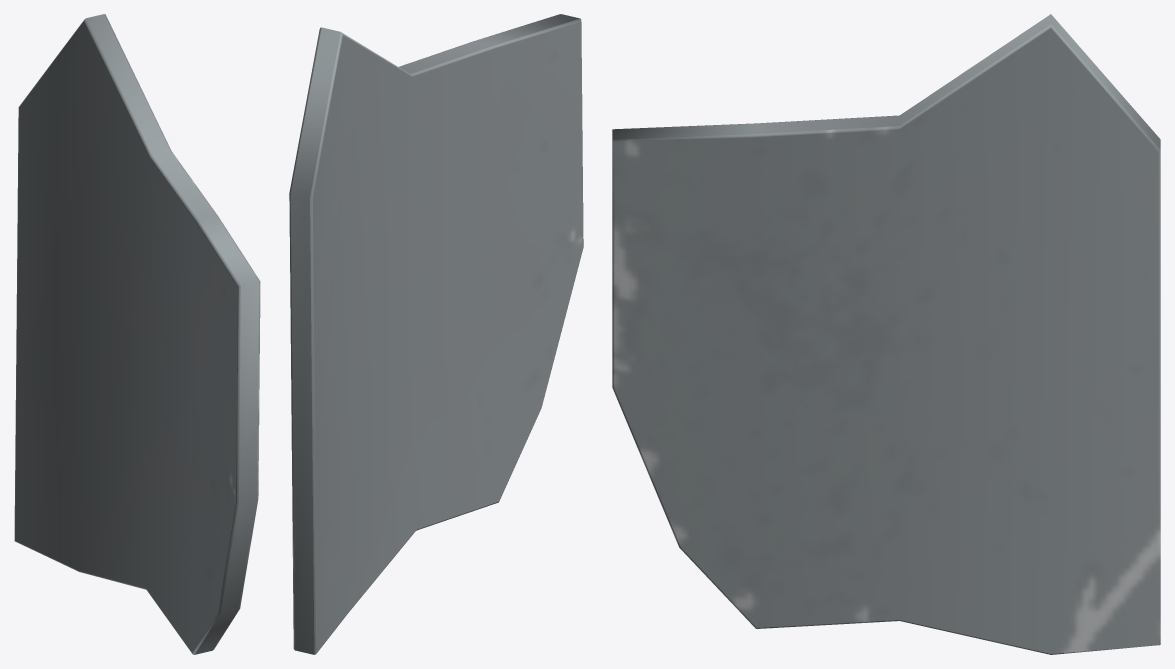
Rendered from verre_brisee_morceau_4.fbx.
The picture shows the model from 3 angles, left to right: view 1: azimuth 30°, elevation 25°; view 2: azimuth 150°, elevation 25°; view 3: azimuth 270°, elevation 25°; orthographic projection. The views are drawn at different scales.
Visible parts, largest first — view 1: verre_brisee_morceau_4; view 2: verre_brisee_morceau_4; view 3: verre_brisee_morceau_4.
Part boxes in pixels (box(x1,y1,x2,y2)): verre_brisee_morceau_4: box(14, 14, 260, 654); verre_brisee_morceau_4: box(289, 14, 583, 654); verre_brisee_morceau_4: box(612, 14, 1160, 654).
Size of the model in its own units: 0.00402 by 0.035 by 0.0274.
